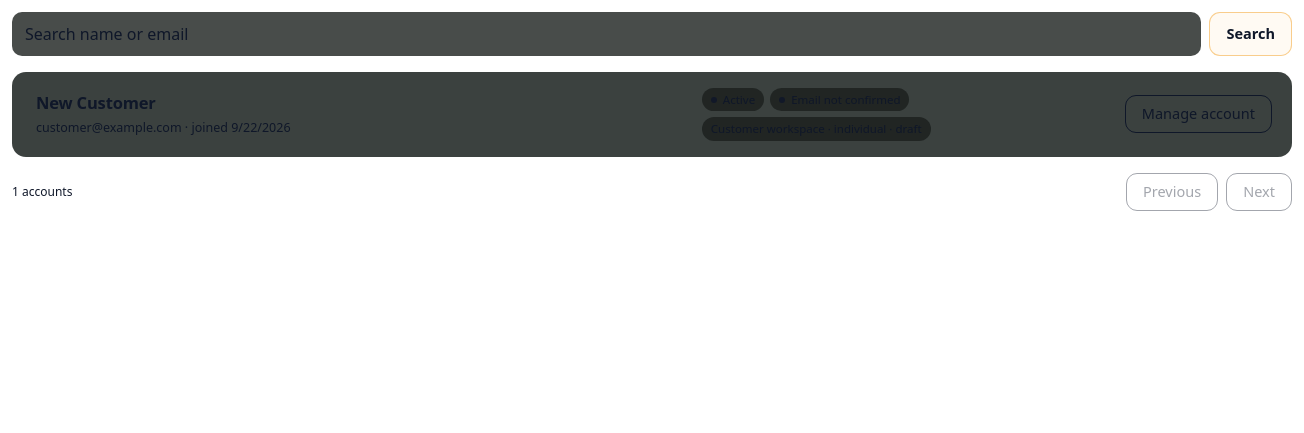
Scenario: All account administration › explains active-resource blockers without showing a deletion action
Click the button "Manage account" at (1198, 114), box left=1125, top=95, right=1272, bottom=133
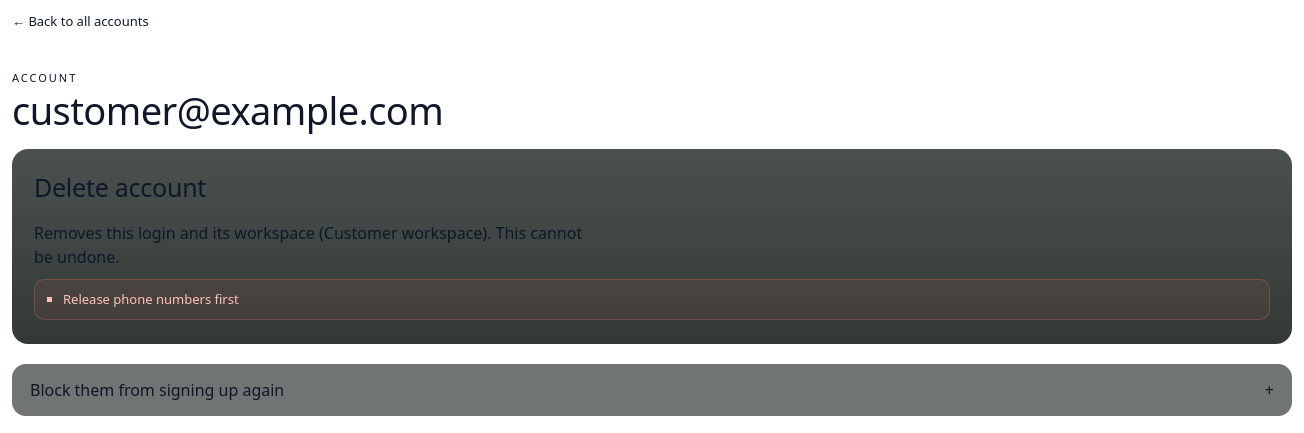
Expected: the list item "Release phone numbers first" is shown, left=63, top=290, right=239, bottom=308
Expected: the button "← Back to all accounts" is enabled, left=12, top=12, right=1292, bottom=32
